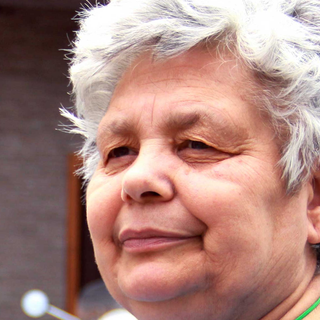eye: (172, 134, 224, 160), (103, 138, 141, 165)
